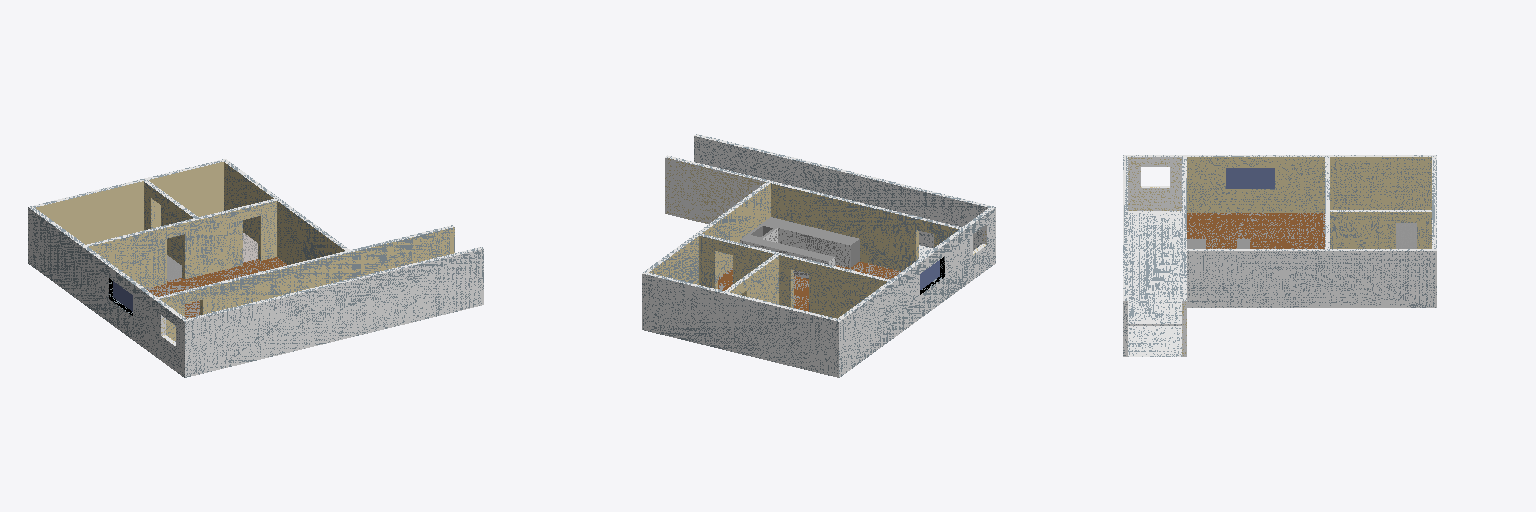
File: House_Model.obj
3 views of the same model, side by side, from view 1: azimuth 30°, elevation 25°; view 2: azimuth 150°, elevation 25°; view 3: azimuth 270°, elevation 25° (orthographic).
Parts seen in each view (by area): view 1: Mesh1 Model; view 2: Mesh1 Model; view 3: Mesh1 Model.
Part boxes in pixels (bbox=[...]): Mesh1 Model: bbox=[28, 159, 483, 377]; Mesh1 Model: bbox=[642, 134, 995, 377]; Mesh1 Model: bbox=[1123, 155, 1436, 356].
Bounding box in the file's own units: 667 × 120 × 605.